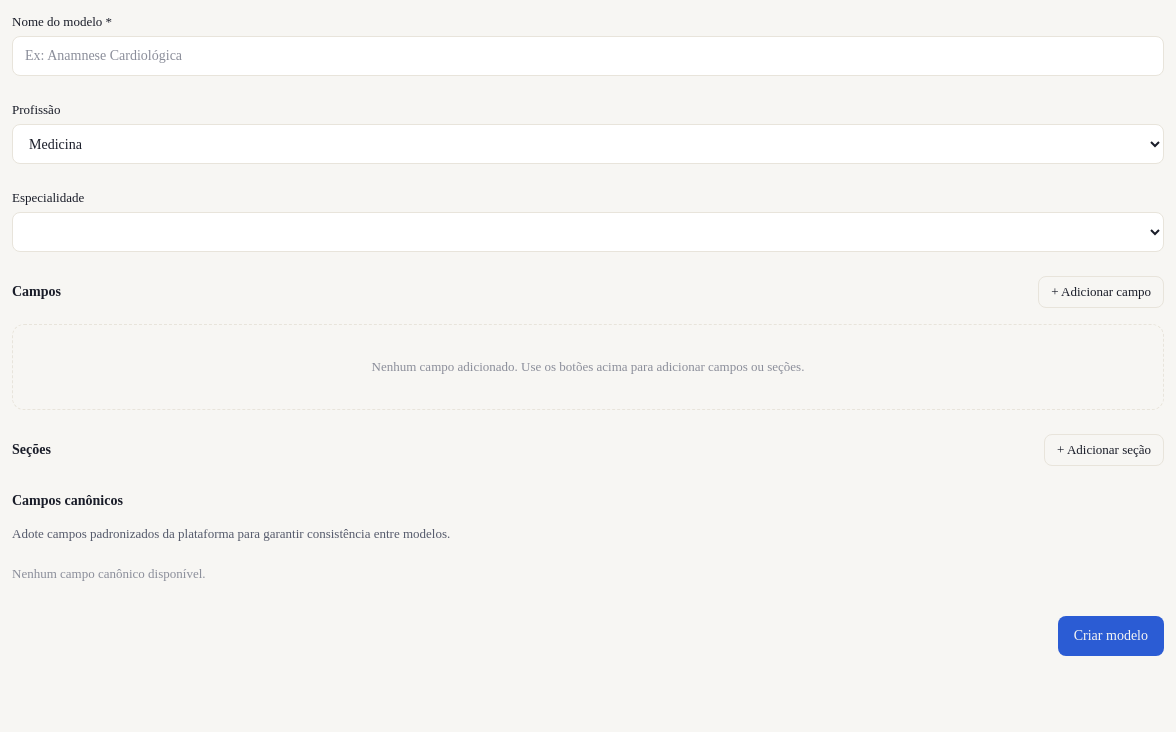
Test: TemplateForm (integration) › create mode › adds field editor when add field clicked
Click the button with test id "template-form-add-field": (1101, 292) [1038,276,1164,308]
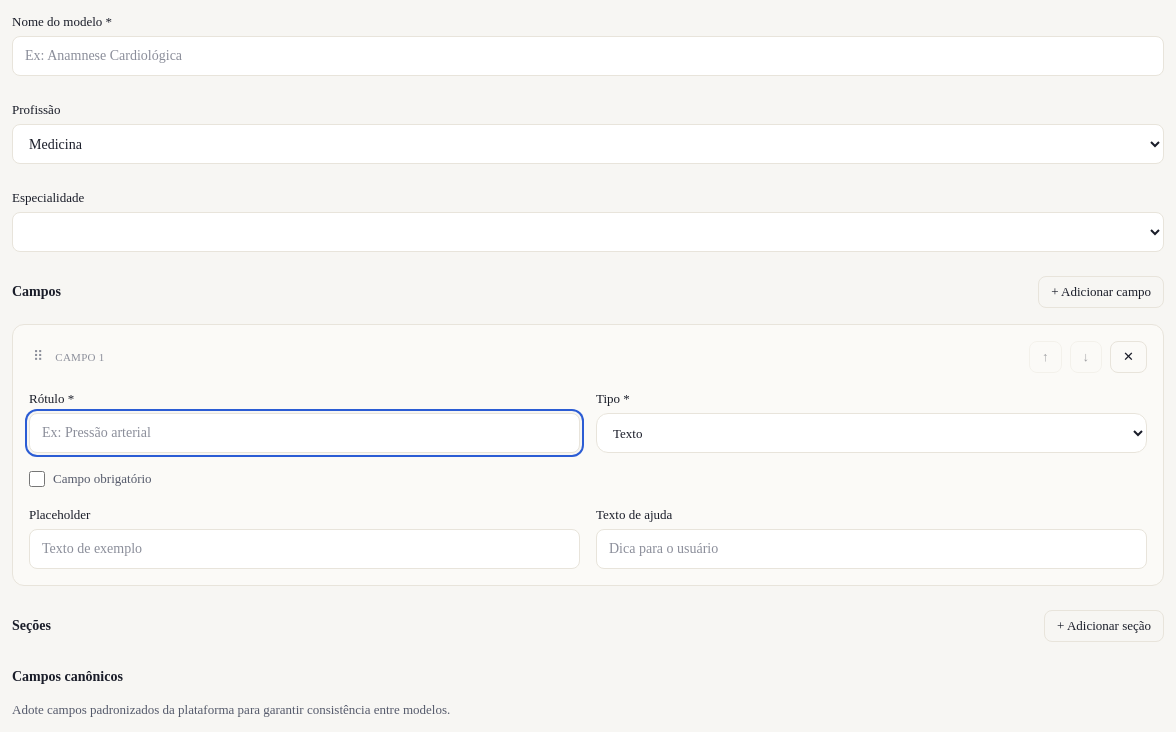
Check: the element with test id "field-editor-0" is shown, box [12,324,1164,586]
